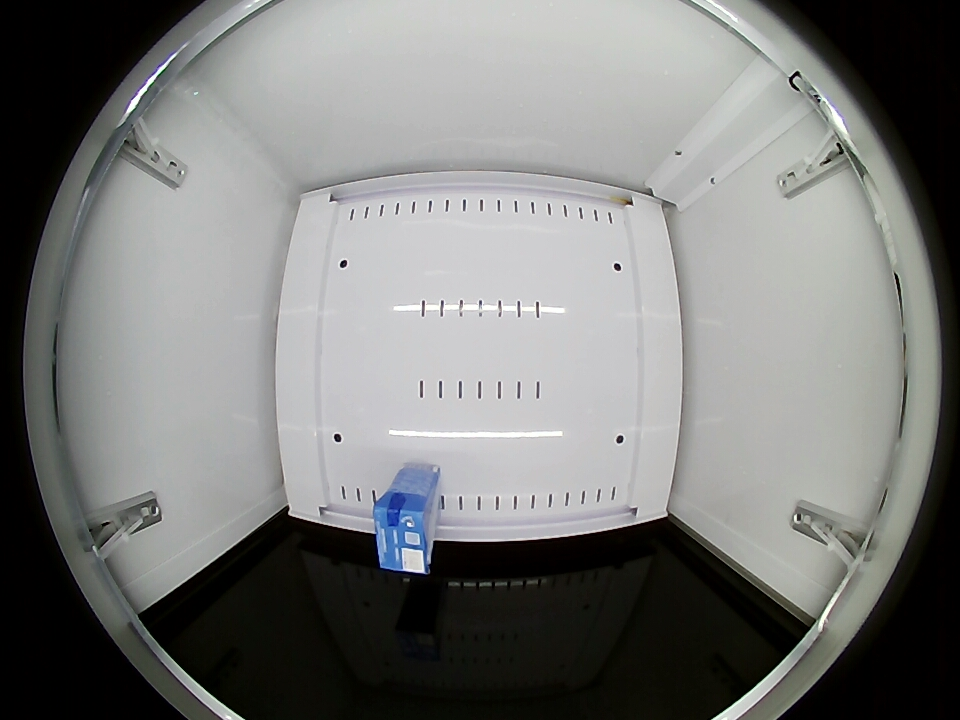weitanai: (374, 488, 435, 574)
